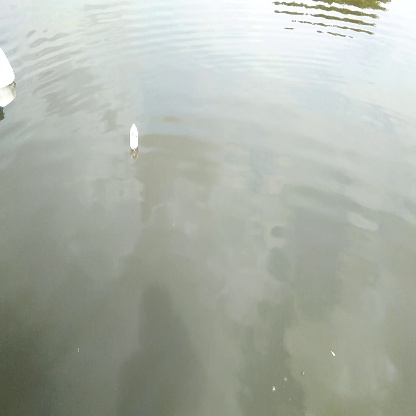bottle: (125, 121, 144, 152)
